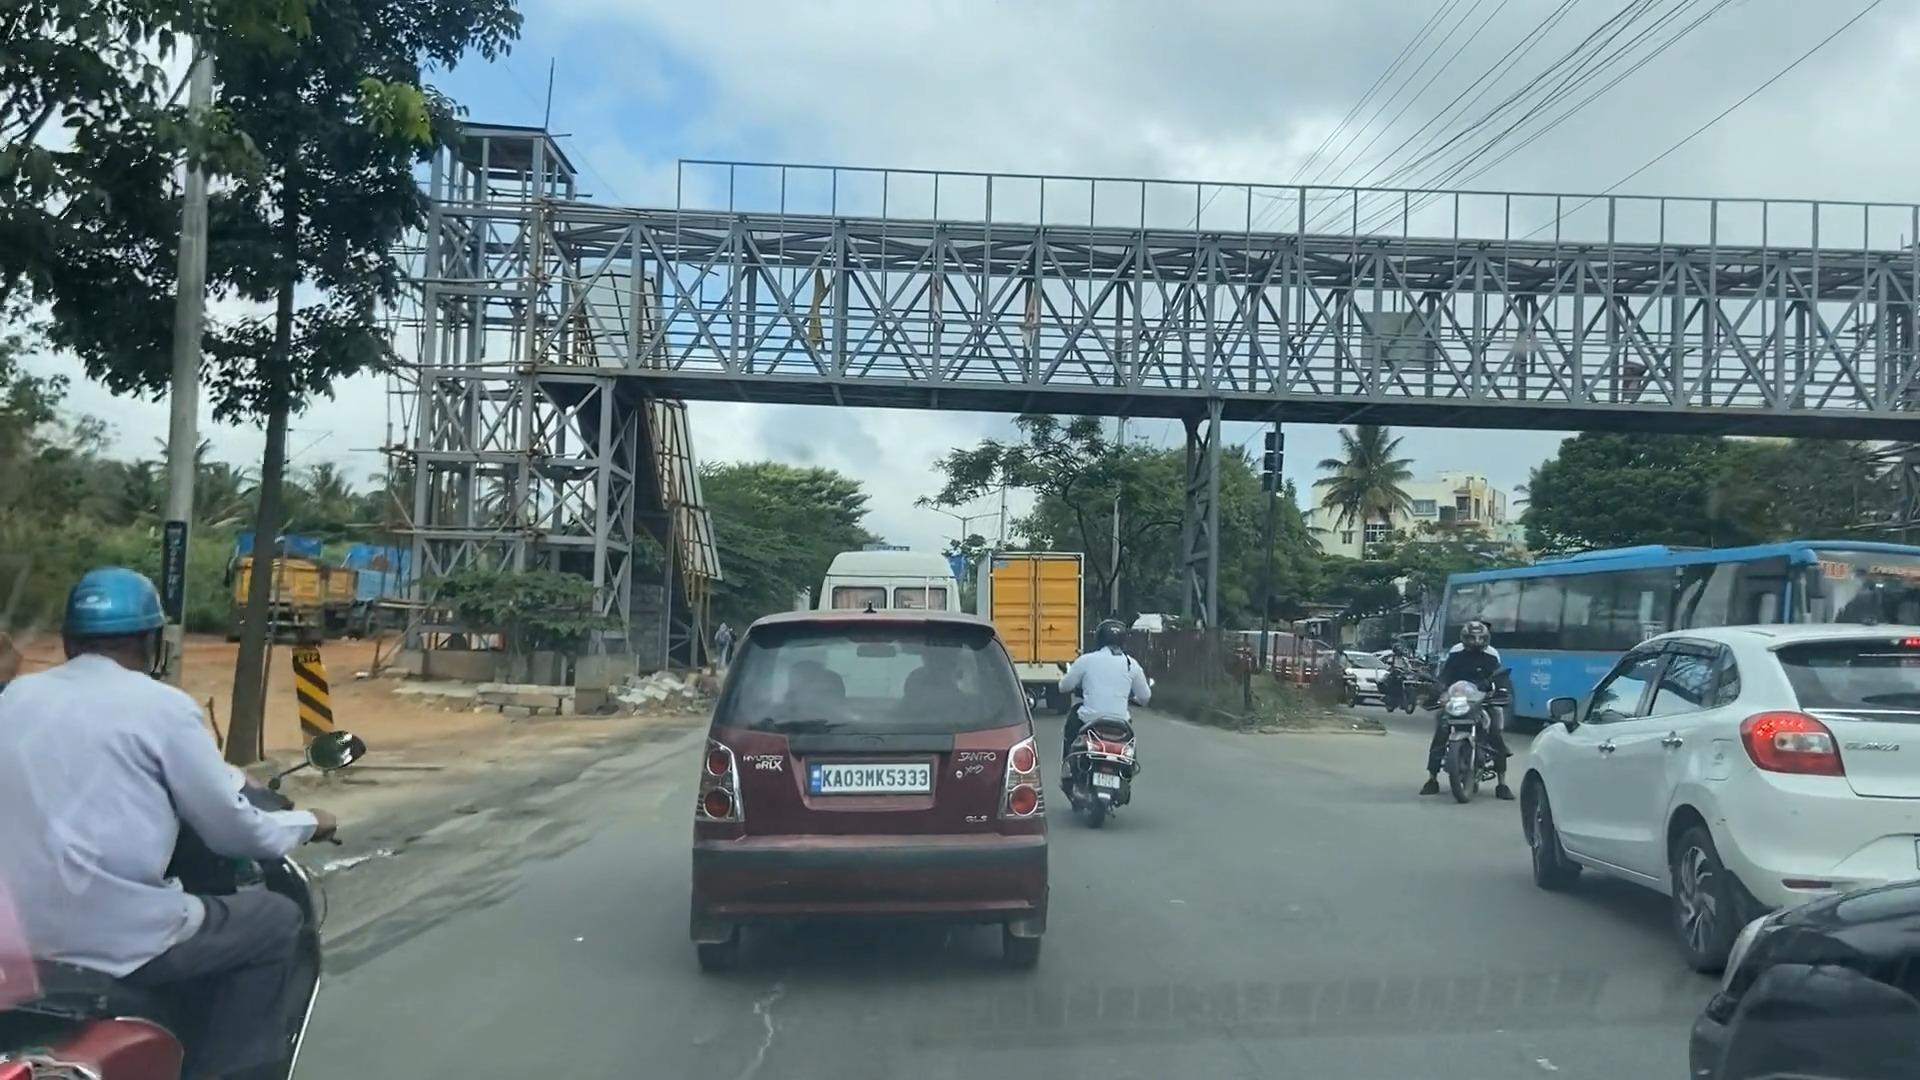LMV: (690, 618, 1047, 947), (1076, 620, 1150, 816)
RoadDamages: (334, 717, 678, 963), (735, 973, 807, 1071)
